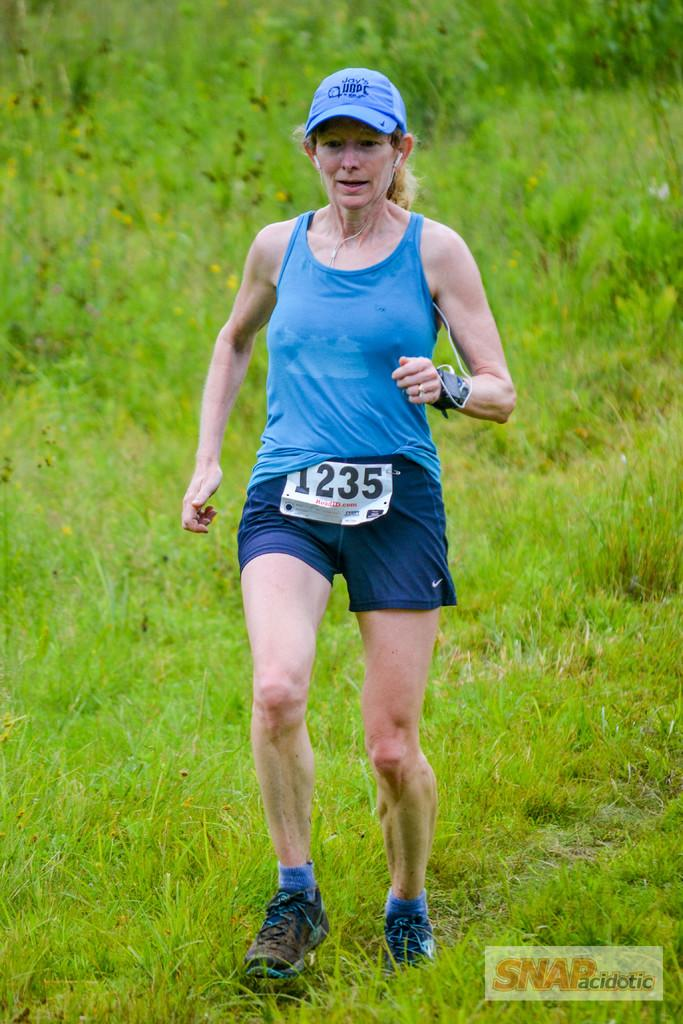Pessoa: (183, 68, 514, 977)
